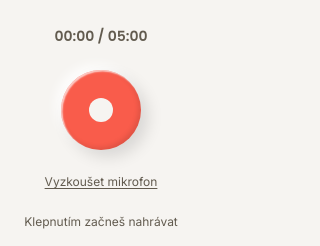
Test: RecordingUI › the countdown can be cancelled
Click the button named "Spustit nahrávání" at (101, 110), box [61,70,141,150]
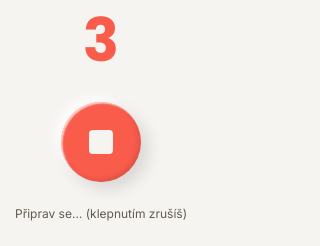
Click the button named "Zrušit odpočet" at (101, 142), box [61,102,141,182]
Wait 5000 ms
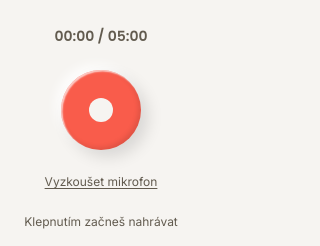
Expected: the button named "Spustit nahrávání" is shown, [61,70,141,150]
